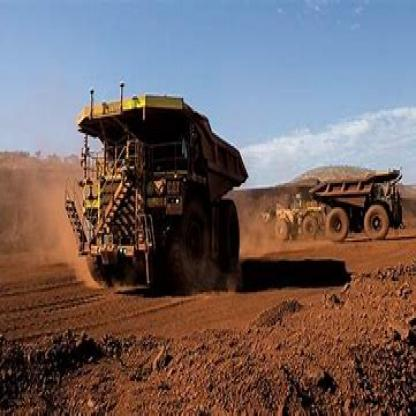dump_truck: (64, 90, 246, 298), (311, 165, 408, 244)
